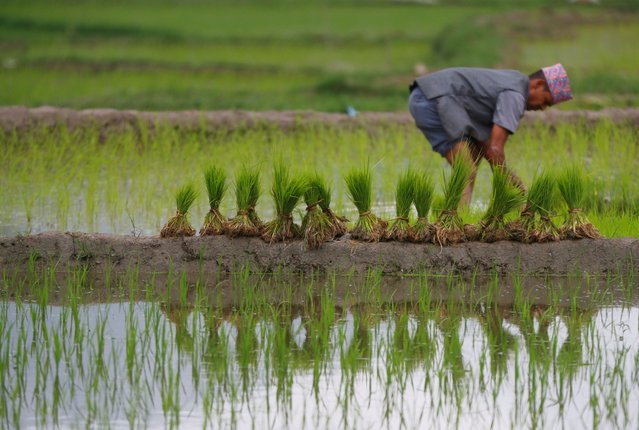human: (384, 57, 586, 213)
